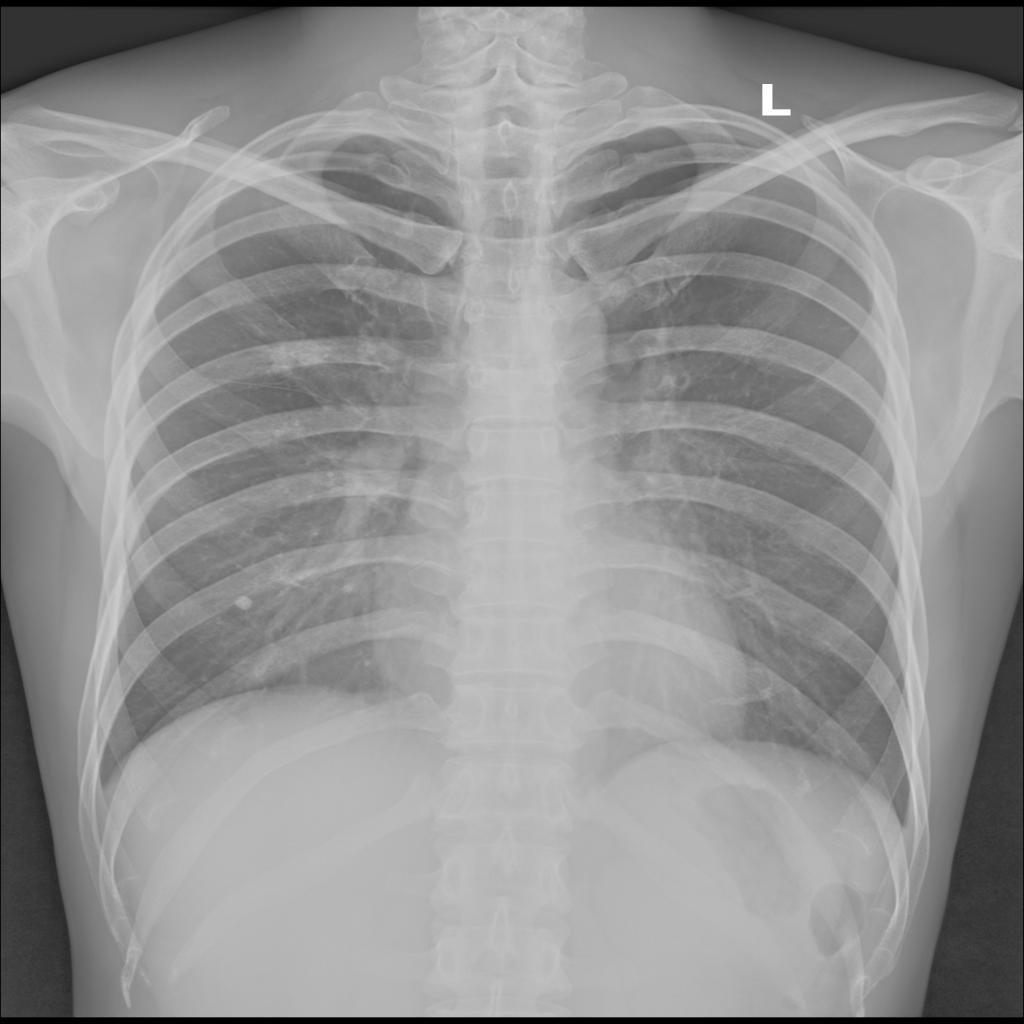Nodule: (237, 594, 252, 614)
